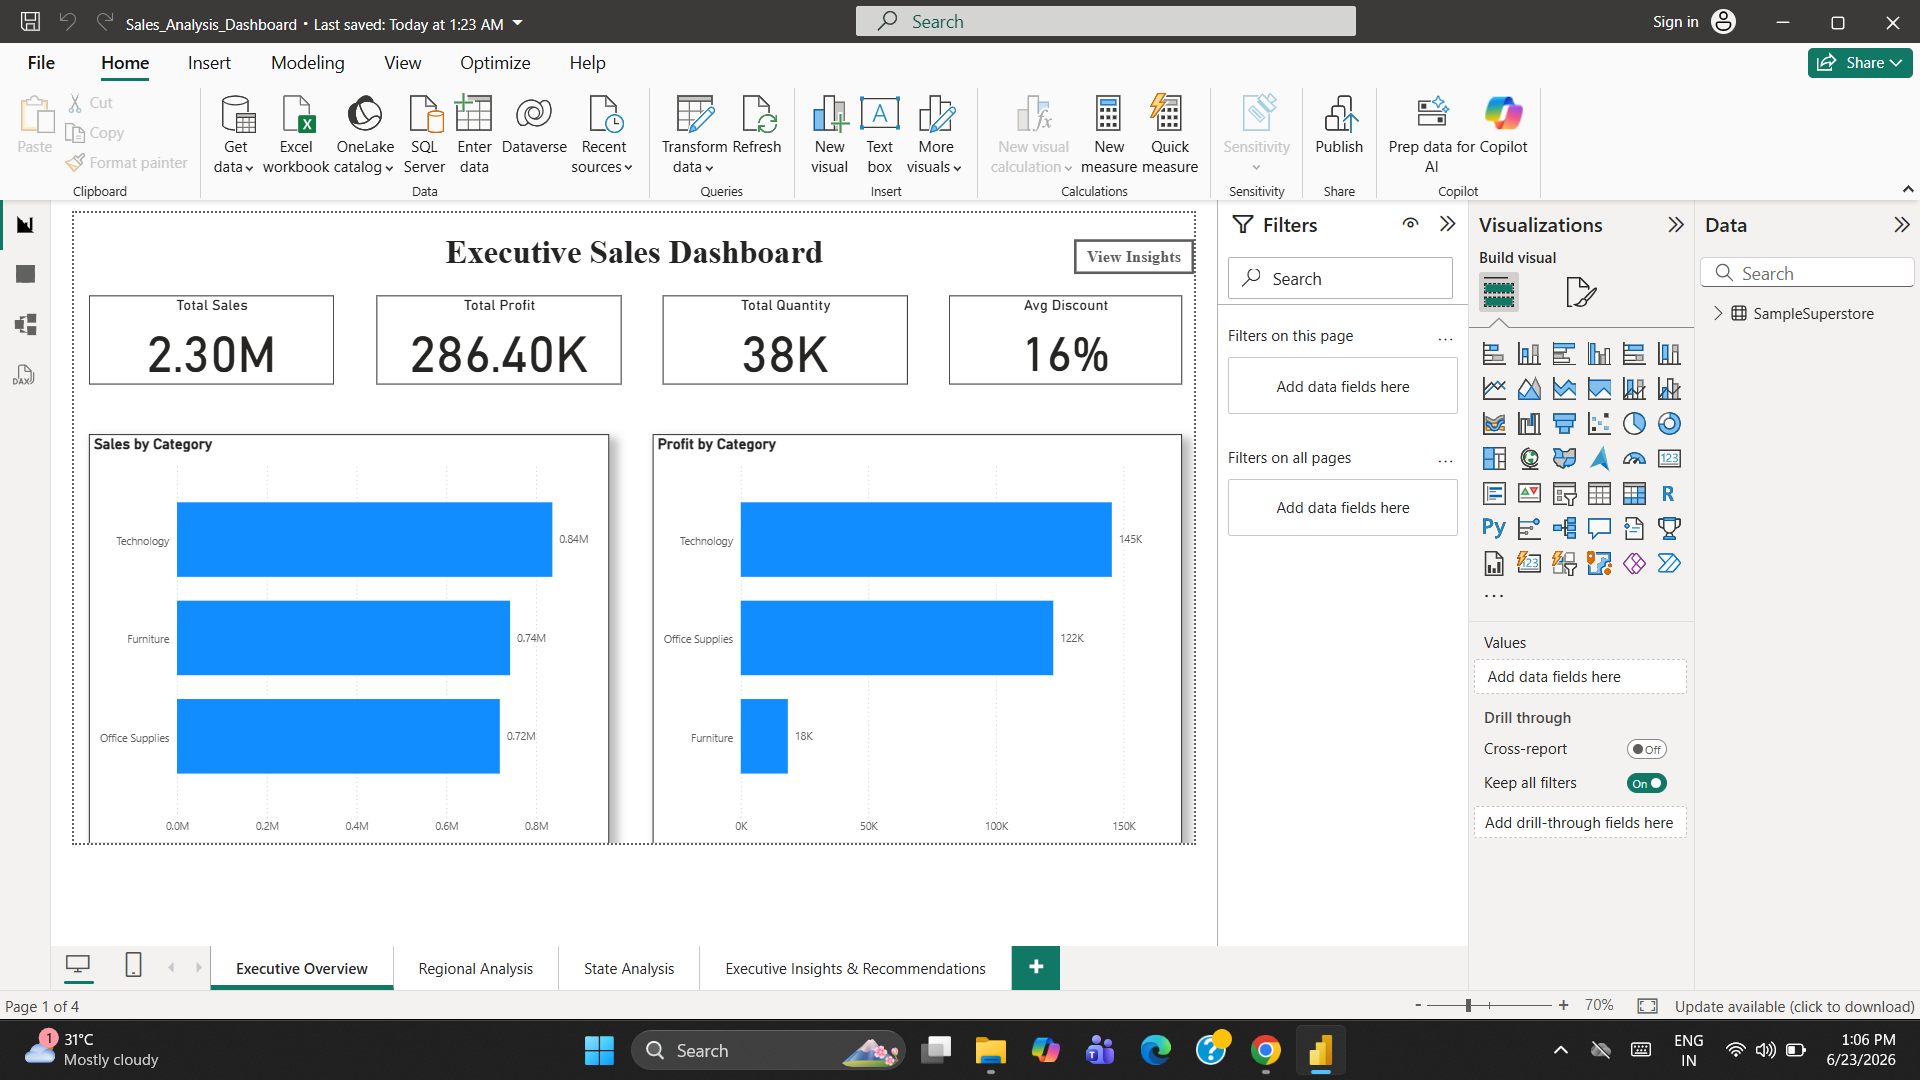

The page's visual inventory and layout, read from the dashboard file:
{"tool":"powerbi","page":{"name":"Executive Overview","canvas":[1280,720],"ordinal":0},"visuals":[{"type":"card","title":"Total Sales","fields":{"Values":["Sum(SampleSuperstore.Sales)"]},"box":[17.8,94.7,279.9,101.5],"z":0},{"type":"card","title":"Total Profit","fields":{"Values":["Sum(SampleSuperstore.Profit)"]},"box":[345.8,94.7,279.9,101.5],"z":1000},{"type":"card","title":"Total Quantity","fields":{"Values":["Sum(SampleSuperstore.Quantity)"]},"box":[672.4,94.7,279.9,101.5],"z":2000},{"type":"card","title":"Avg Discount","fields":{"Values":["Avg(SampleSuperstore.Discount)"]},"box":[1000.3,94.7,266.2,101.5],"z":3000},{"type":"clusteredBarChart","title":"Sales by Category","fields":{"Y":["Sum(SampleSuperstore.Sales)"],"Category":["SampleSuperstore.Category"]},"box":[17.8,252.5,594.2,467.9],"z":4000},{"type":"clusteredBarChart","title":"Profit by Category","fields":{"Y":["Sum(SampleSuperstore.Profit)"],"Category":["SampleSuperstore.Category"]},"box":[661.4,252.5,605.1,467.9],"z":5000},{"type":"textbox","box":[0,0,1280.3,79.6],"z":6000},{"type":"actionButton","box":[1143.1,30.2,137.2,39.8],"z":6001}]}

Visuals, with their boxes on the page's 1280x720 design canvas (x1, y1, x2, y2). These are canvas units, not pixel positions in the 1920x1080 screenshot, which may show the page scaled, cropped or inside an application window:
"Total Sales" card: Rect(18, 95, 298, 196)
"Total Profit" card: Rect(346, 95, 626, 196)
"Total Quantity" card: Rect(672, 95, 952, 196)
"Avg Discount" card: Rect(1000, 95, 1266, 196)
"Sales by Category" clusteredBarChart: Rect(18, 252, 612, 720)
"Profit by Category" clusteredBarChart: Rect(661, 252, 1266, 720)
textbox: Rect(0, 0, 1280, 80)
actionButton: Rect(1143, 30, 1280, 70)
